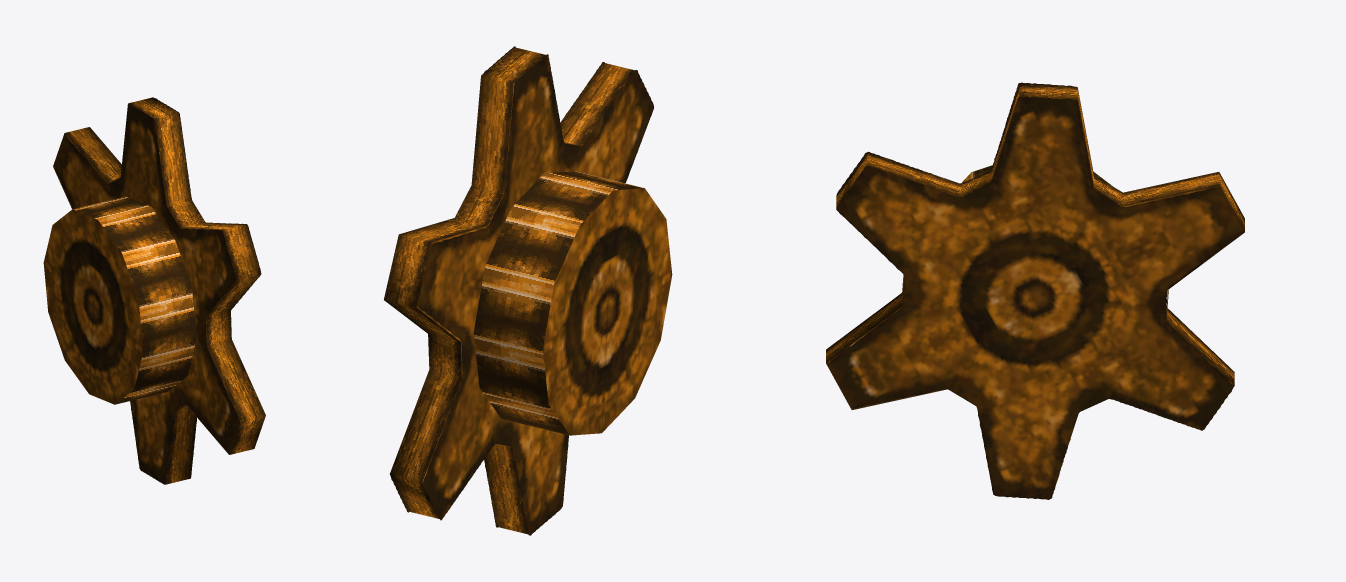
File: INST_PUZZLE_PIECE1_PIECE1_COPPER.obj
3 renders of one model, left to right at view 1: azimuth 30°, elevation 25°; view 2: azimuth 150°, elevation 25°; view 3: azimuth 270°, elevation 25°, orthographic. The views are drawn at different scales.
Visible parts, largest first — view 1: Piece1_Copper; view 2: Piece1_Copper; view 3: Piece1_Copper.
Part boxes in pixels (x1=…): Piece1_Copper: x1=43, y1=97, x2=265, y2=484; Piece1_Copper: x1=384, y1=46, x2=672, y2=535; Piece1_Copper: x1=826, y1=82, x2=1244, y2=499.
Size of the model in its own units: 7.83 by 46.13 by 45.88.
